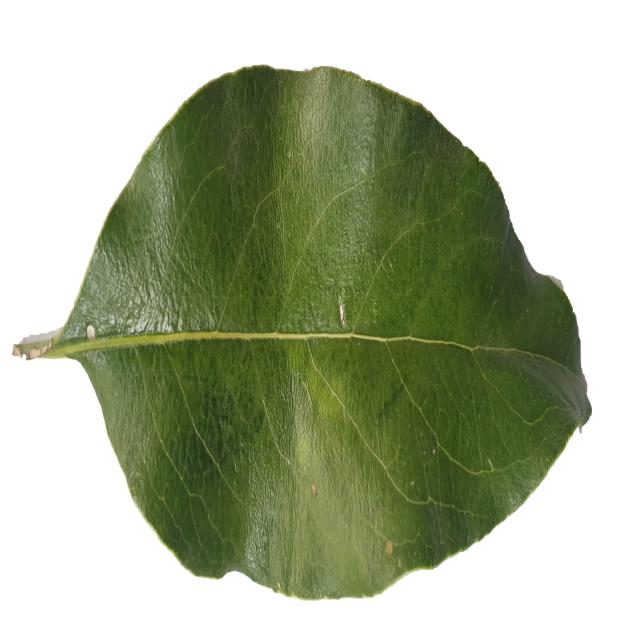Medicinal-Sandalwood: (12, 60, 594, 599)
